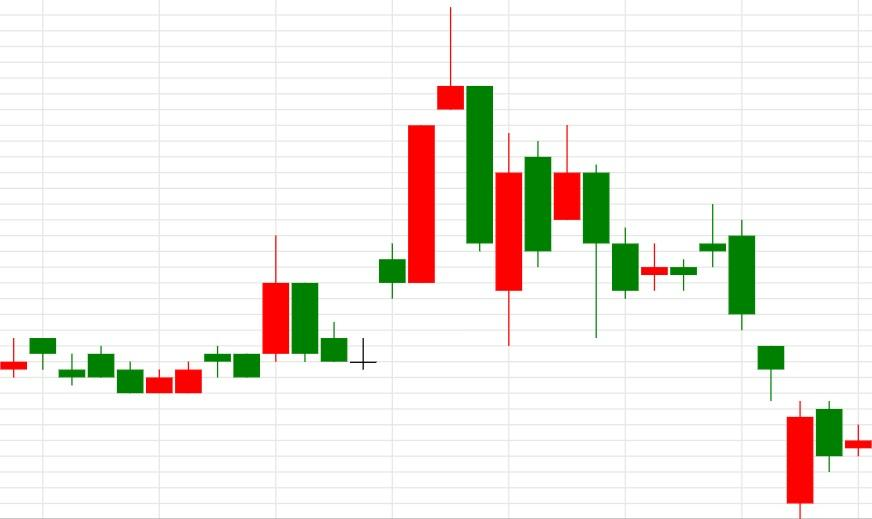shooting_star_fall: (348, 6, 465, 370)
